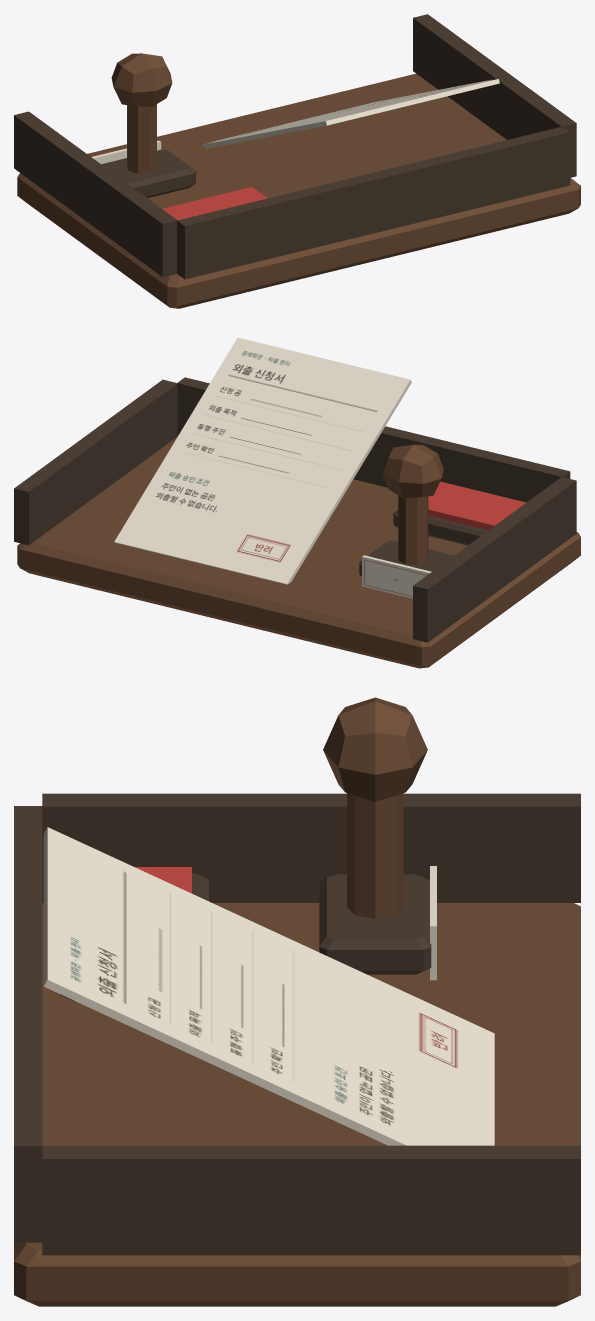
Rendered from C03_Rejected_Exit_Application.fbx.
The picture shows the model from 3 angles, top to bottom: view 1: azimuth 30°, elevation 25°; view 2: azimuth 150°, elevation 25°; view 3: azimuth 270°, elevation 25°; orthographic projection. The views are drawn at different scales.
Parts seen in each view (by area): view 1: Form_Tray, Return_Stamp, Front_Exit_Application, Ink_Pad; view 2: Form_Tray, Front_Exit_Application, Return_Stamp, Ink_Pad; view 3: Form_Tray, Front_Exit_Application, Return_Stamp, Ink_Pad.
Boxes of the visible parts, x1,y1,x2,y2 form: Form_Tray: [14, 14, 580, 308]; Return_Stamp: [91, 53, 195, 197]; Front_Exit_Application: [202, 79, 499, 148]; Ink_Pad: [162, 187, 267, 220]; Form_Tray: [14, 377, 580, 668]; Front_Exit_Application: [114, 337, 411, 584]; Return_Stamp: [359, 444, 453, 598]; Ink_Pad: [393, 481, 526, 545]; Form_Tray: [14, 793, 580, 1306]; Front_Exit_Application: [43, 827, 494, 1145]; Return_Stamp: [319, 697, 436, 980]; Ink_Pad: [60, 867, 208, 1001].
Size of the model in its own units: 0.61 by 0.24 by 0.4.
Materials: 5 (1 with a texture image).
